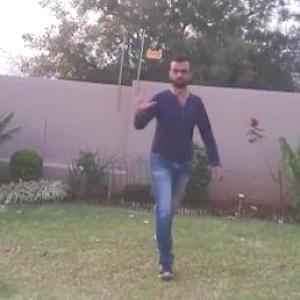follow_hand: (127, 76, 156, 112)
